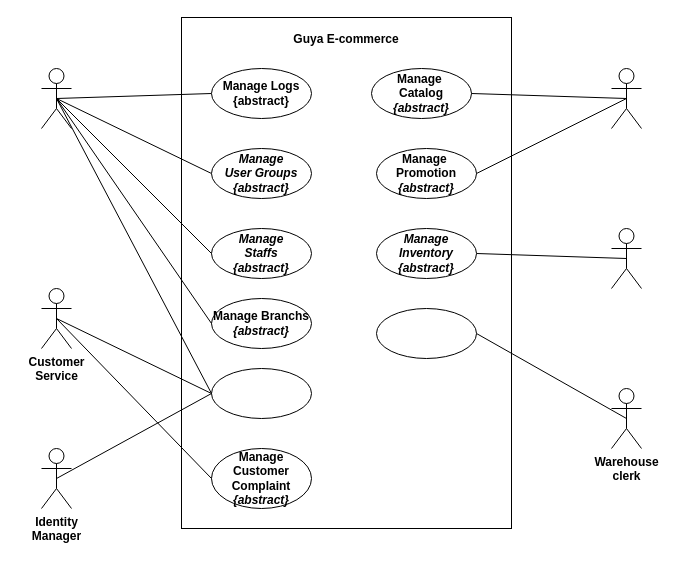
Image size: 682x562. Some labels were removed from this diagram. Each missing label, with the centre of its shape:
"Manage Customers {abstract}" goes at point 261,393.
"Marketing administrator" goes at point 626,98.
"Process Delivery Order {abstract}" goes at point 426,333.
"Warehouse manager" goes at point 626,258.
"Website Administrator" goes at point 56,98.
